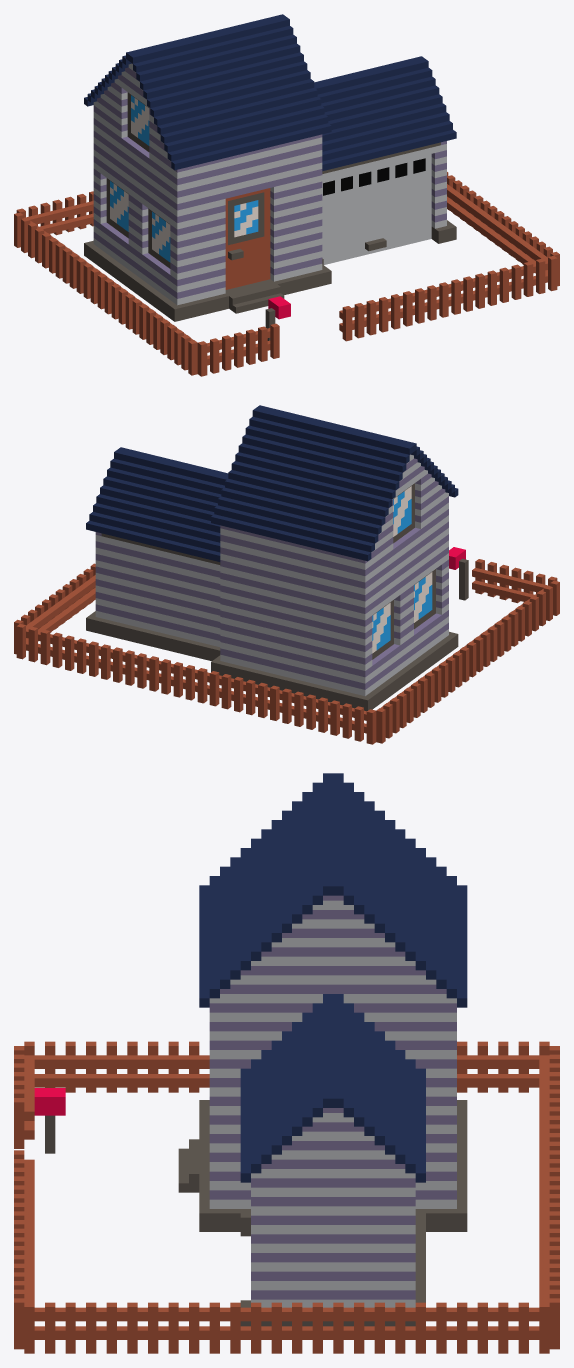
Rendered from house_b_b.obj.
3 views of the same model, one above another, from view 1: azimuth 30°, elevation 25°; view 2: azimuth 150°, elevation 25°; view 3: azimuth 270°, elevation 25° (orthographic). The views are drawn at different scales.
Size of the model in its own units: 6.1 by 3.7 by 5.3.
1 material, 1 textured.
